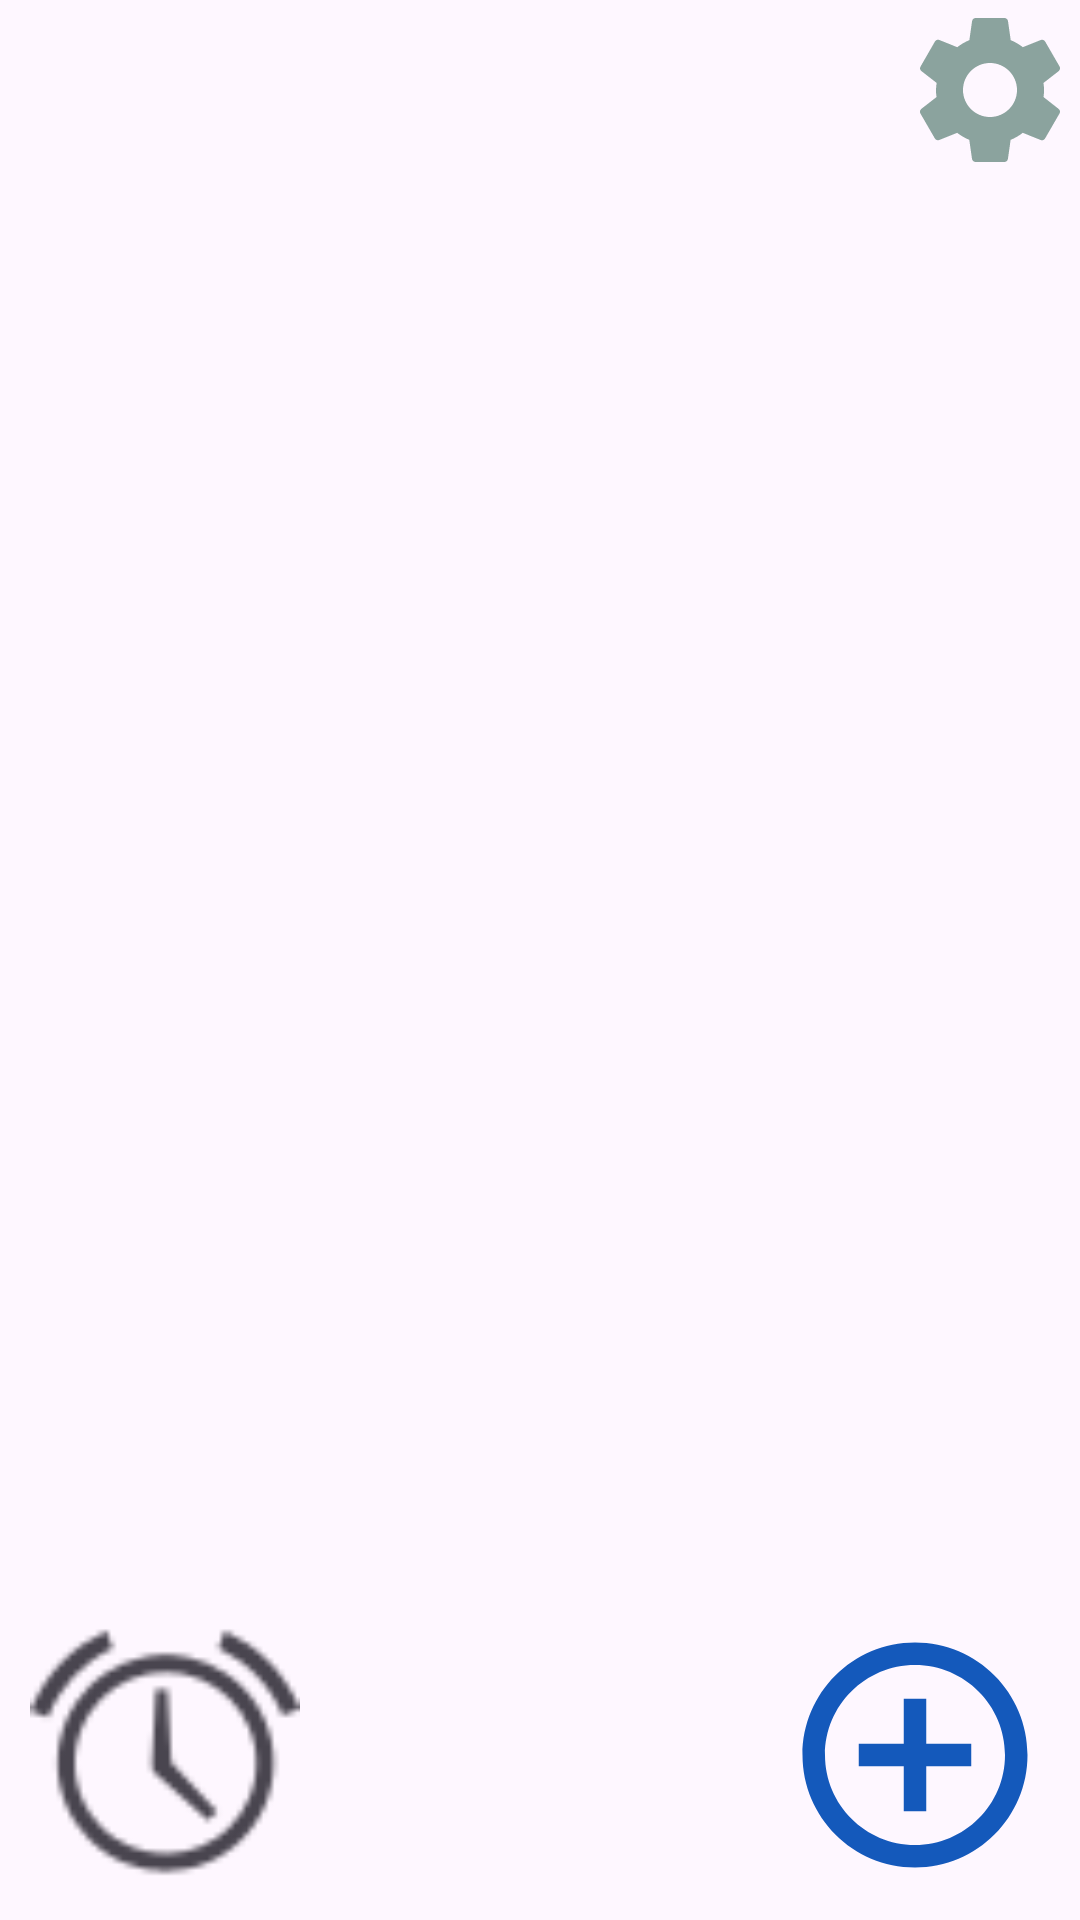

Point at icon controls on the screen. Image size 1080 × 1920, points as (x,y).
add circle: (915,1755)
lock idle alarm: (165,1752)
settings: (990,90)
